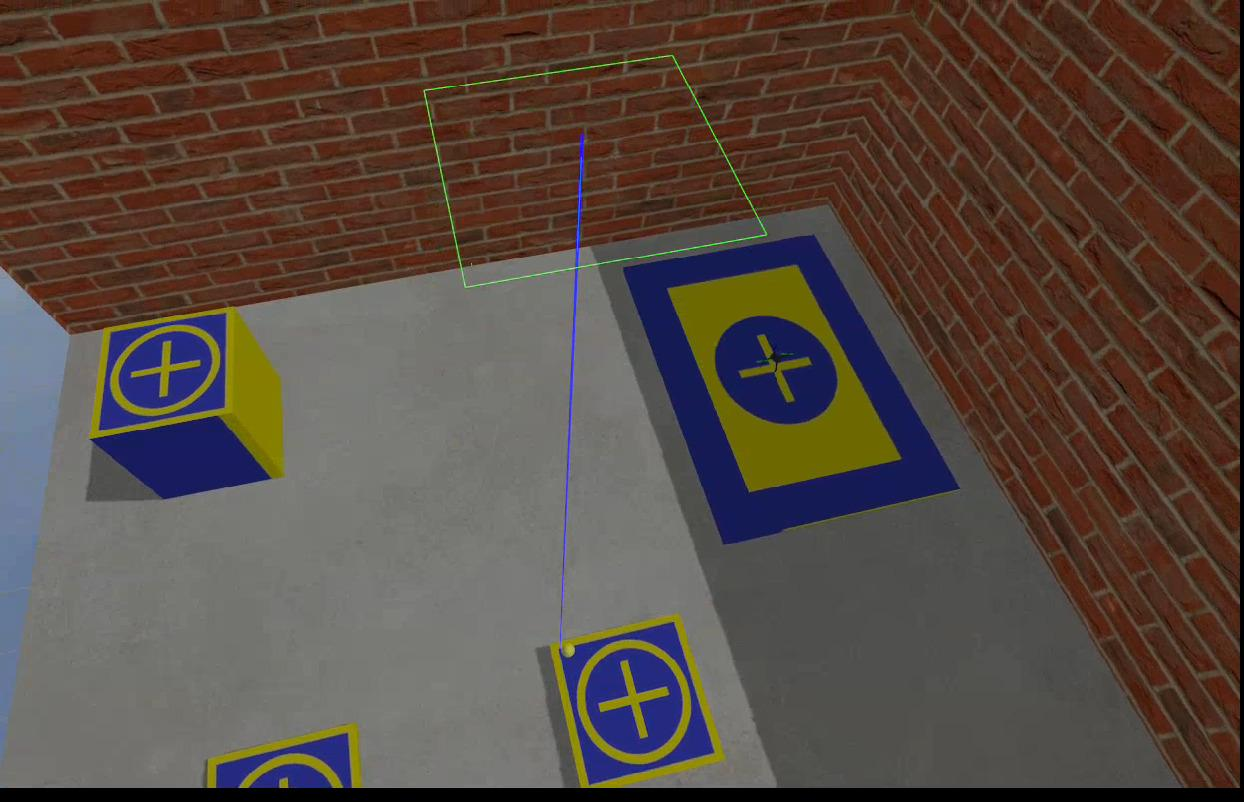large_base: (622, 231, 963, 548)
small_base: (550, 615, 728, 790), (94, 309, 236, 441), (205, 718, 365, 790)
